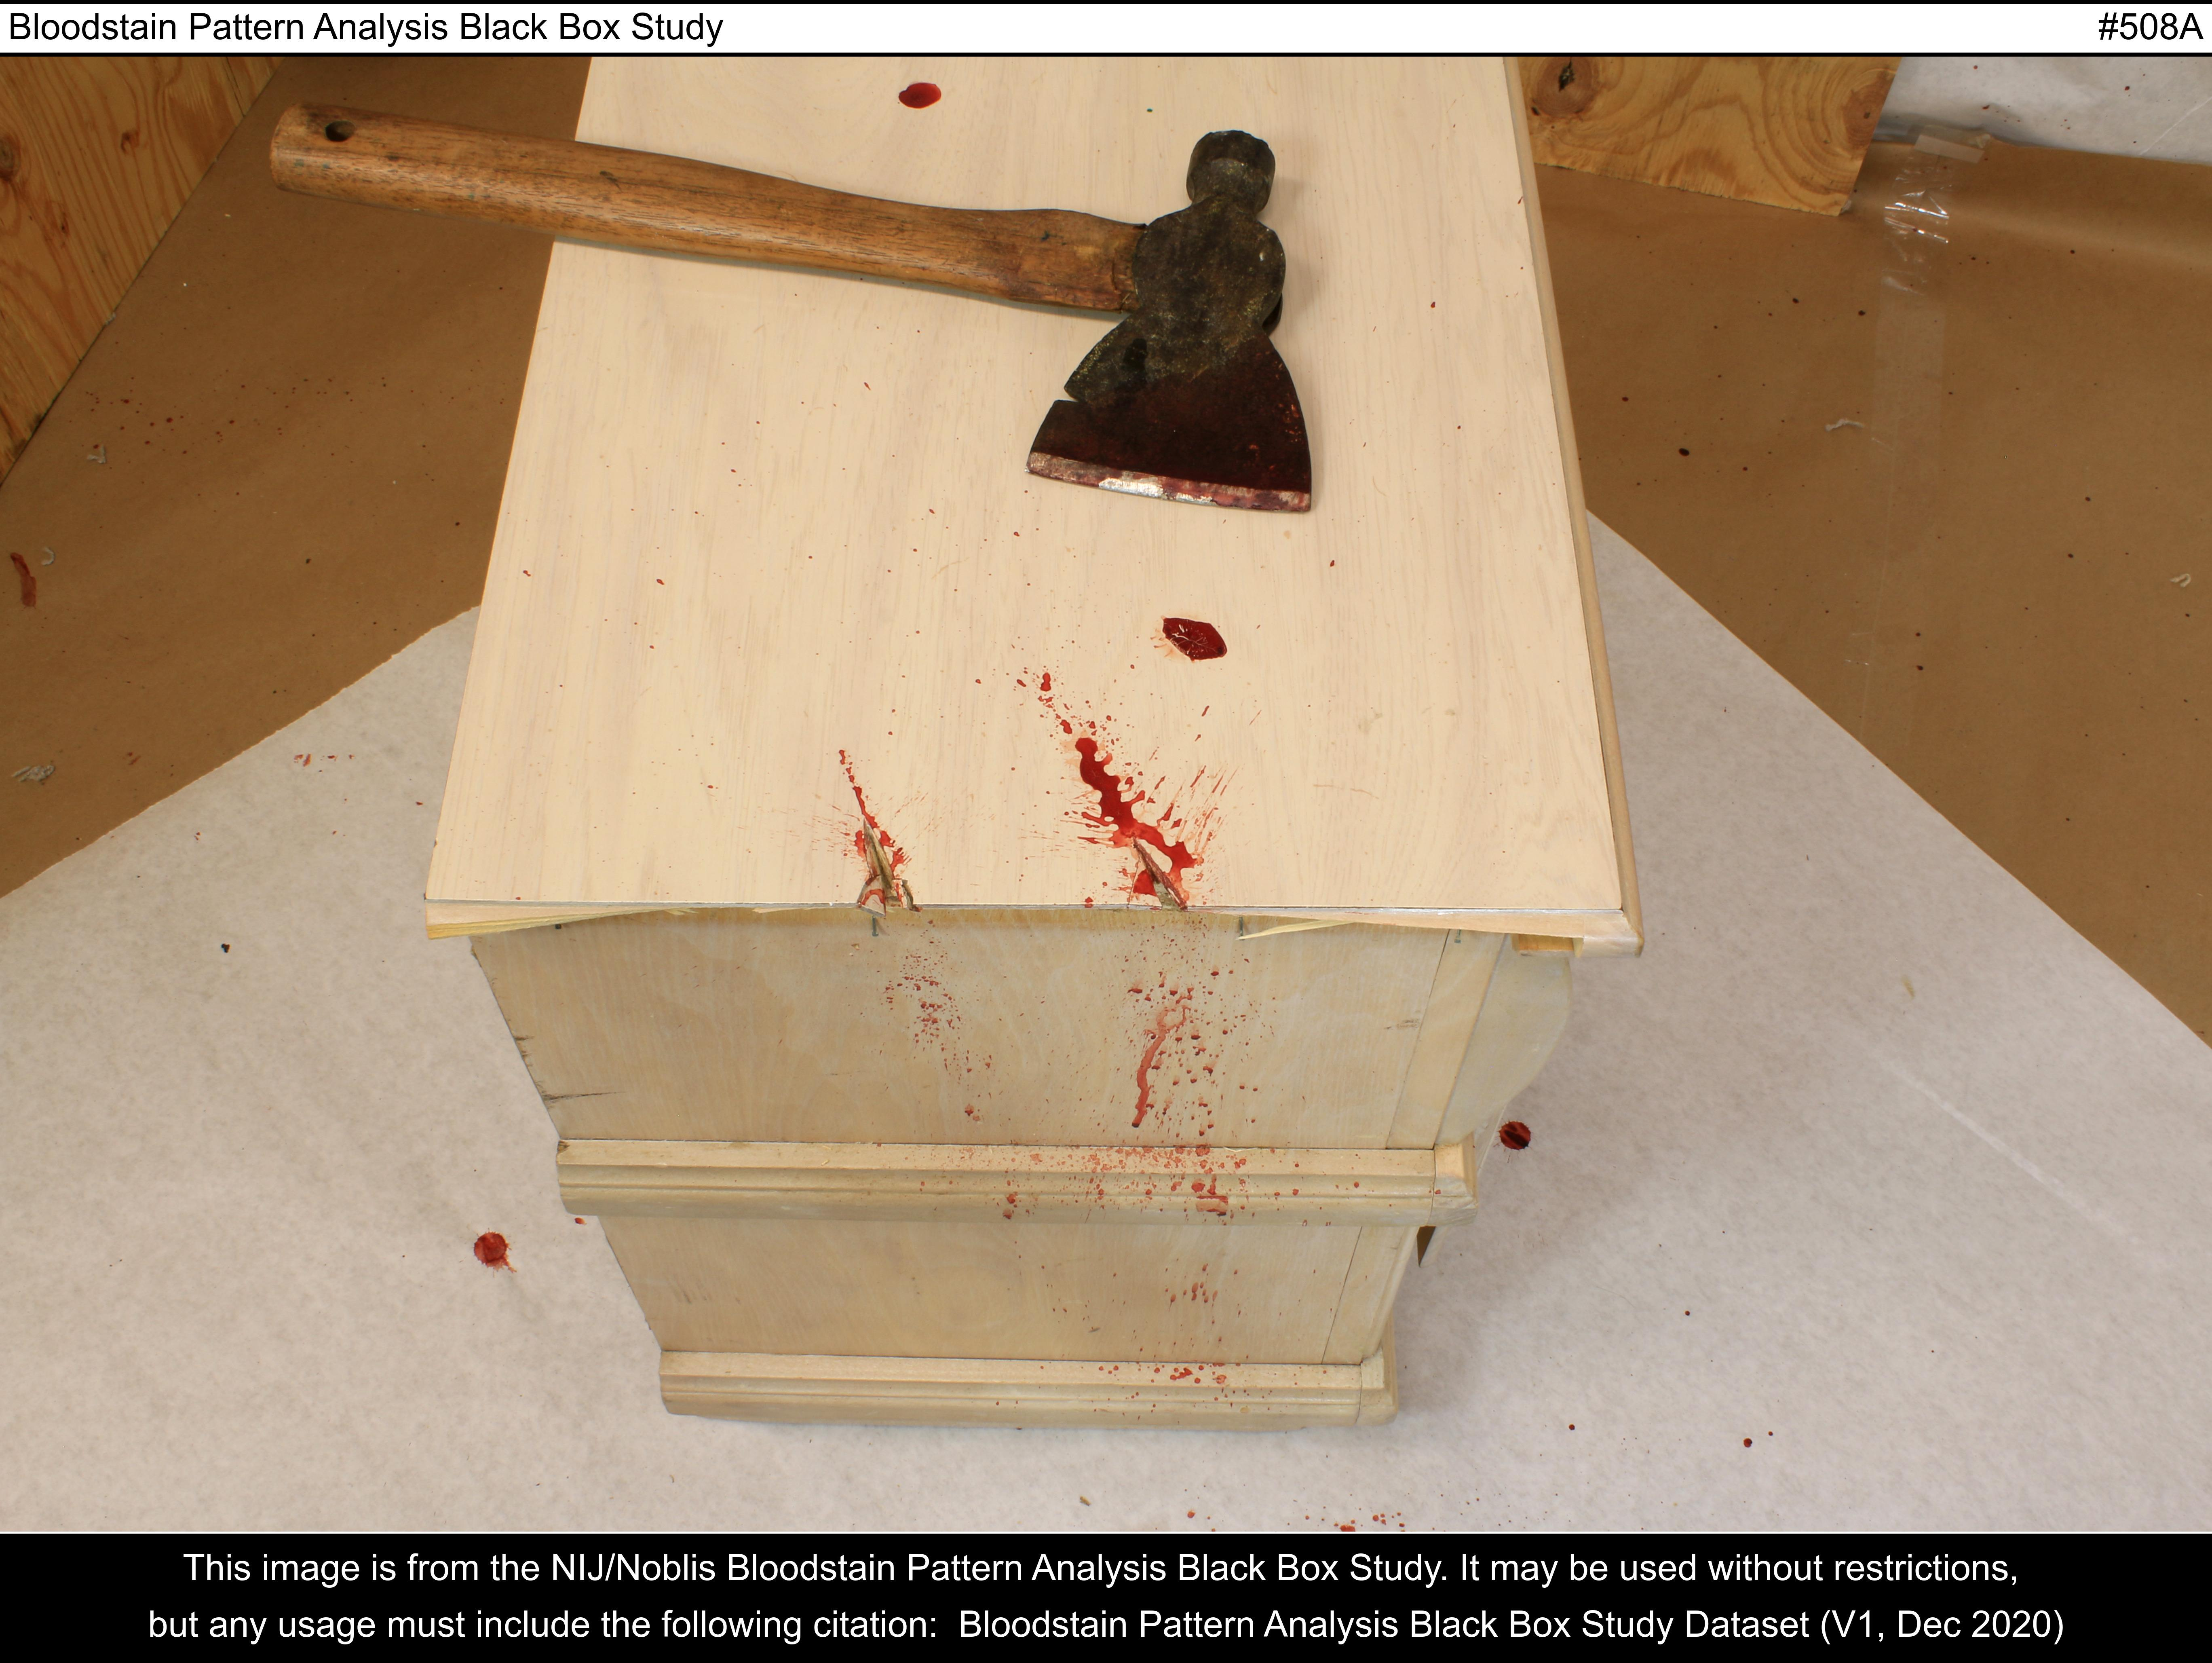Impact: (1063, 968, 1355, 1478), (972, 576, 1311, 938), (424, 1209, 567, 1319)
Transfer: (1048, 335, 1327, 524)
